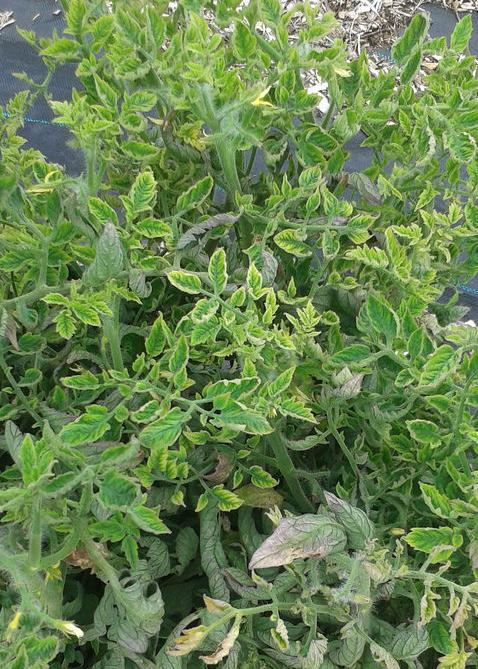Tomato leaf yellow virus: (53, 400, 123, 453), (94, 470, 159, 521), (409, 340, 464, 397), (392, 100, 436, 168), (119, 499, 178, 545), (403, 525, 470, 565), (136, 409, 198, 451), (358, 290, 397, 352), (388, 15, 440, 60), (85, 191, 126, 247), (16, 430, 42, 507), (396, 416, 450, 453), (121, 171, 158, 224), (114, 2, 150, 53), (215, 373, 264, 410), (112, 93, 157, 133), (215, 409, 277, 438), (415, 481, 458, 520), (323, 343, 373, 376), (276, 395, 323, 429), (90, 67, 126, 110), (266, 359, 302, 401), (243, 462, 296, 490), (343, 244, 392, 274), (441, 127, 477, 164), (206, 247, 234, 294), (136, 215, 178, 246), (230, 20, 260, 62), (204, 483, 246, 512), (284, 94, 330, 120), (165, 339, 194, 380), (446, 15, 477, 53), (67, 301, 106, 330), (143, 310, 167, 357), (275, 228, 308, 262), (192, 295, 225, 329), (64, 0, 88, 46), (166, 272, 205, 300), (242, 261, 268, 301), (114, 141, 160, 163), (460, 194, 478, 247), (299, 164, 325, 196)
